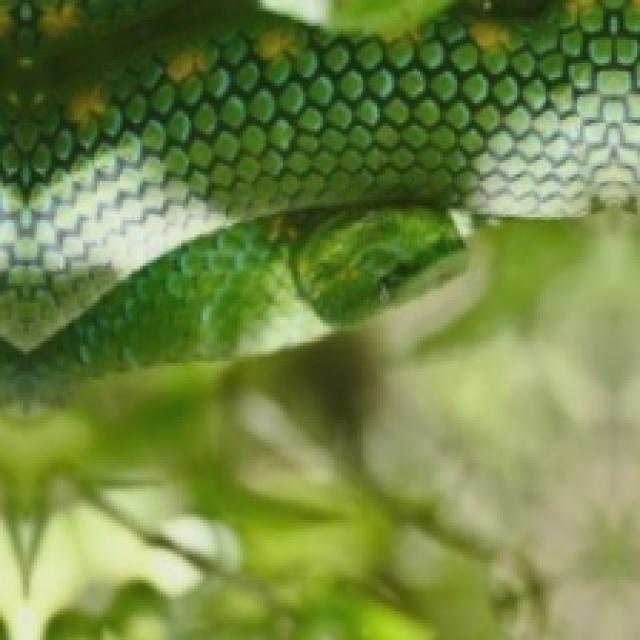philippine pitviper: (0, 0, 637, 394), (0, 0, 637, 346)
